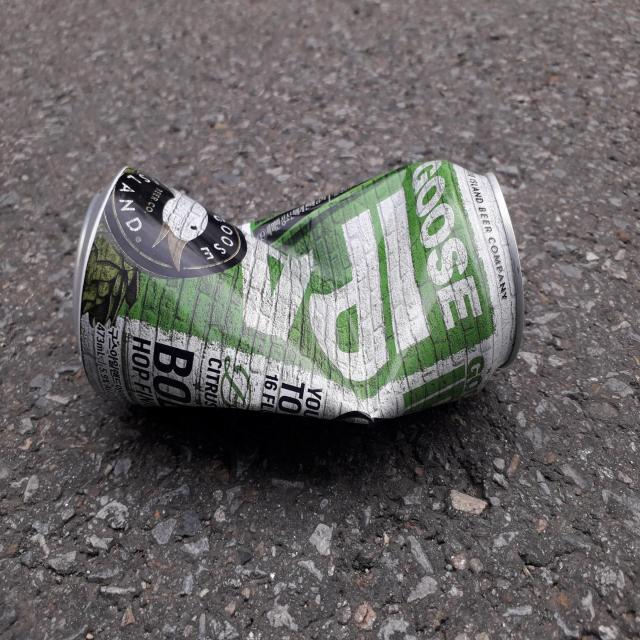can: (73, 161, 525, 422)
